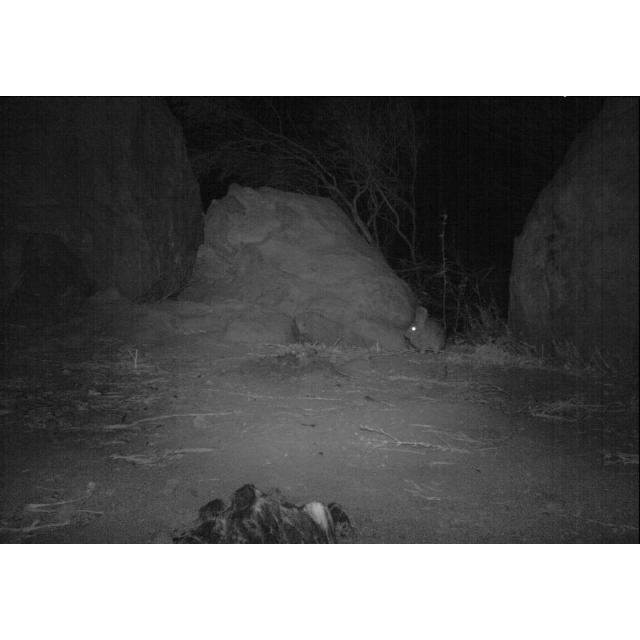animals: (400, 300, 450, 362)
